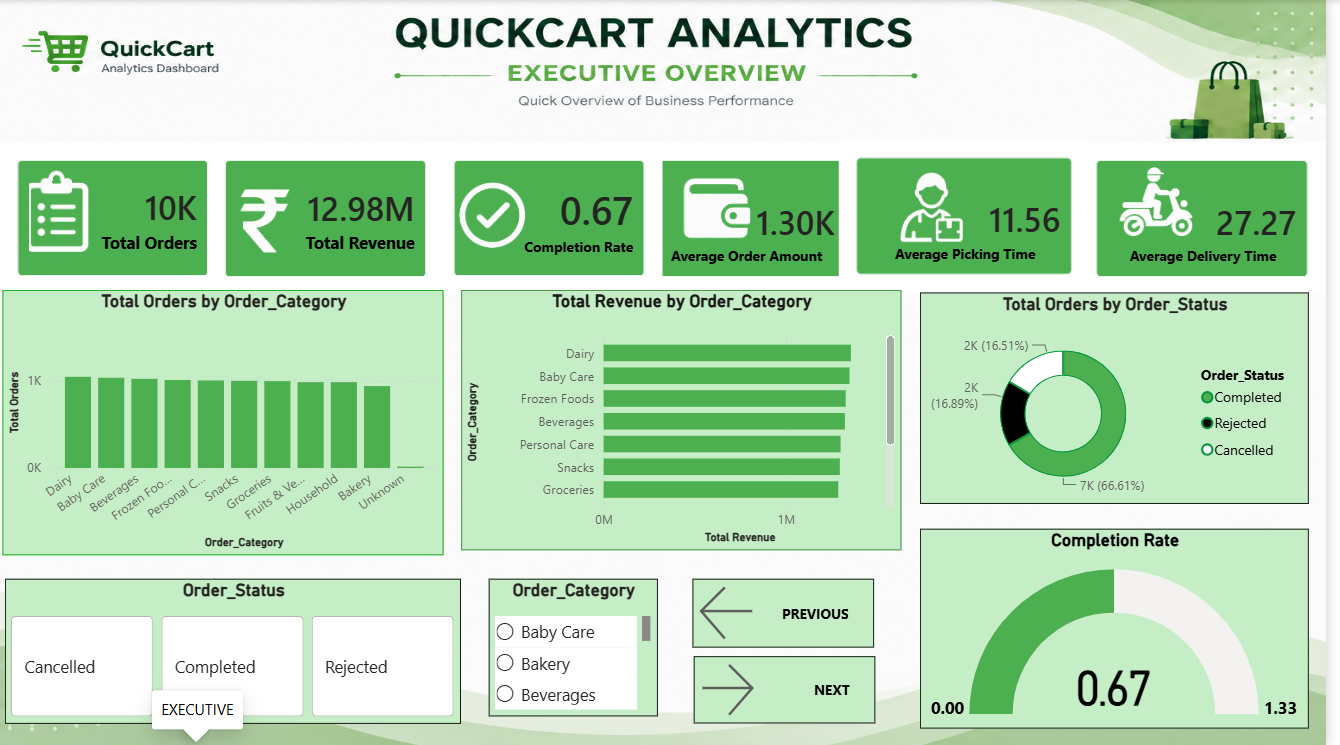

The dashboard page shown, as its layout file describes it:
{"tool":"powerbi","page":{"name":"EXECUTIVE","canvas":[1280,720],"ordinal":0},"visuals":[{"type":"cardVisual","fields":{"Data":["All Measures.Total Orders"]},"box":[0,137.5,218.2,146.8],"z":0},{"type":"image","box":[0,159.3,139.9,90.5],"z":1000},{"type":"cardVisual","fields":{"Data":["All Measures.Total Revenue"]},"box":[200.3,137.5,228,147.2],"z":2000},{"type":"cardVisual","fields":{"Data":["All Measures.Average Order Amount"]},"box":[605.6,137.5,228,147.2],"z":3000},{"type":"image","box":[173.7,147.2,174.9,105],"z":4000},{"type":"image","box":[605.6,132.7,176.1,114.6],"z":5000},{"type":"cardVisual","fields":{"Data":["All Measures.Average Delivery Time"]},"box":[1041.2,137.5,238.9,147.2],"z":6000},{"type":"cardVisual","fields":{"Data":["All Measures.Average Picking Time"]},"box":[809.5,135.1,242.5,147.2],"z":7000},{"type":"cardVisual","fields":{"Data":["All Measures.Completion Rate"]},"box":[421,137.5,218.2,146.8],"z":8000},{"type":"image","box":[843.3,164.1,123.1,94.1],"z":9000},{"type":"image","box":[380,164.1,182.2,105],"z":10000},{"type":"image","box":[1067.7,158,112.2,94.1],"z":11000},{"type":"columnChart","fields":{"Y":["All Measures.Total Orders"],"Category":["quickcartdb store_orders.Order_Category"]},"box":[2.4,279.9,425.9,255.8],"z":12000},{"type":"barChart","fields":{"Category":["quickcartdb store_orders.Order_Category"],"Y":["All Measures.Total Revenue"]},"box":[445.2,279.9,424.7,250.9],"z":13000},{"type":"donutChart","fields":{"Category":["quickcartdb store_orders.Order_Status"],"Y":["All Measures.Total Orders"]},"box":[887.9,282.3,375.2,203.9],"z":14000},{"type":"gauge","fields":{"Y":["All Measures.Completion Rate"]},"box":[887.9,510.3,375.2,193],"z":15000},{"type":"listSlicer","fields":{"Values":["quickcartdb store_orders.Order_Category"]},"box":[471.7,558.6,162.9,132.7],"z":16000},{"type":"advancedSlicerVisual","fields":{"Values":["quickcartdb store_orders.Order_Status"]},"box":[4.8,558.6,440.4,139.9],"z":17000},{"type":"actionButton","box":[668.4,558.6,174.9,66.4],"z":18000},{"type":"actionButton","box":[669.6,633.4,174.9,65.1],"z":19000}]}

Visuals, with their boxes in screenshot pixels (x1, y1, x2, y2), scaled from the page's 1280x720 canvas onto the 1340x745 screenshot:
cardVisual - All Measures.Total Orders: <box>0,142,228,294</box>
image: <box>0,165,146,258</box>
cardVisual - All Measures.Total Revenue: <box>210,142,448,295</box>
cardVisual - All Measures.Average Order Amount: <box>634,142,873,295</box>
image: <box>182,152,365,261</box>
image: <box>634,137,818,256</box>
cardVisual - All Measures.Average Delivery Time: <box>1090,142,1339,295</box>
cardVisual - All Measures.Average Picking Time: <box>847,140,1101,292</box>
cardVisual - All Measures.Completion Rate: <box>441,142,669,294</box>
image: <box>883,170,1012,267</box>
image: <box>398,170,589,278</box>
image: <box>1118,163,1235,261</box>
columnChart - All Measures.Total Orders x quickcartdb store_orders.Order_Category: <box>3,290,448,554</box>
barChart - quickcartdb store_orders.Order_Category x All Measures.Total Revenue: <box>466,290,911,549</box>
donutChart - quickcartdb store_orders.Order_Status x All Measures.Total Orders: <box>930,292,1322,503</box>
gauge - All Measures.Completion Rate: <box>930,528,1322,728</box>
listSlicer - quickcartdb store_orders.Order_Category: <box>494,578,664,715</box>
advancedSlicerVisual - quickcartdb store_orders.Order_Status: <box>5,578,466,723</box>
actionButton: <box>700,578,883,647</box>
actionButton: <box>701,655,884,723</box>
